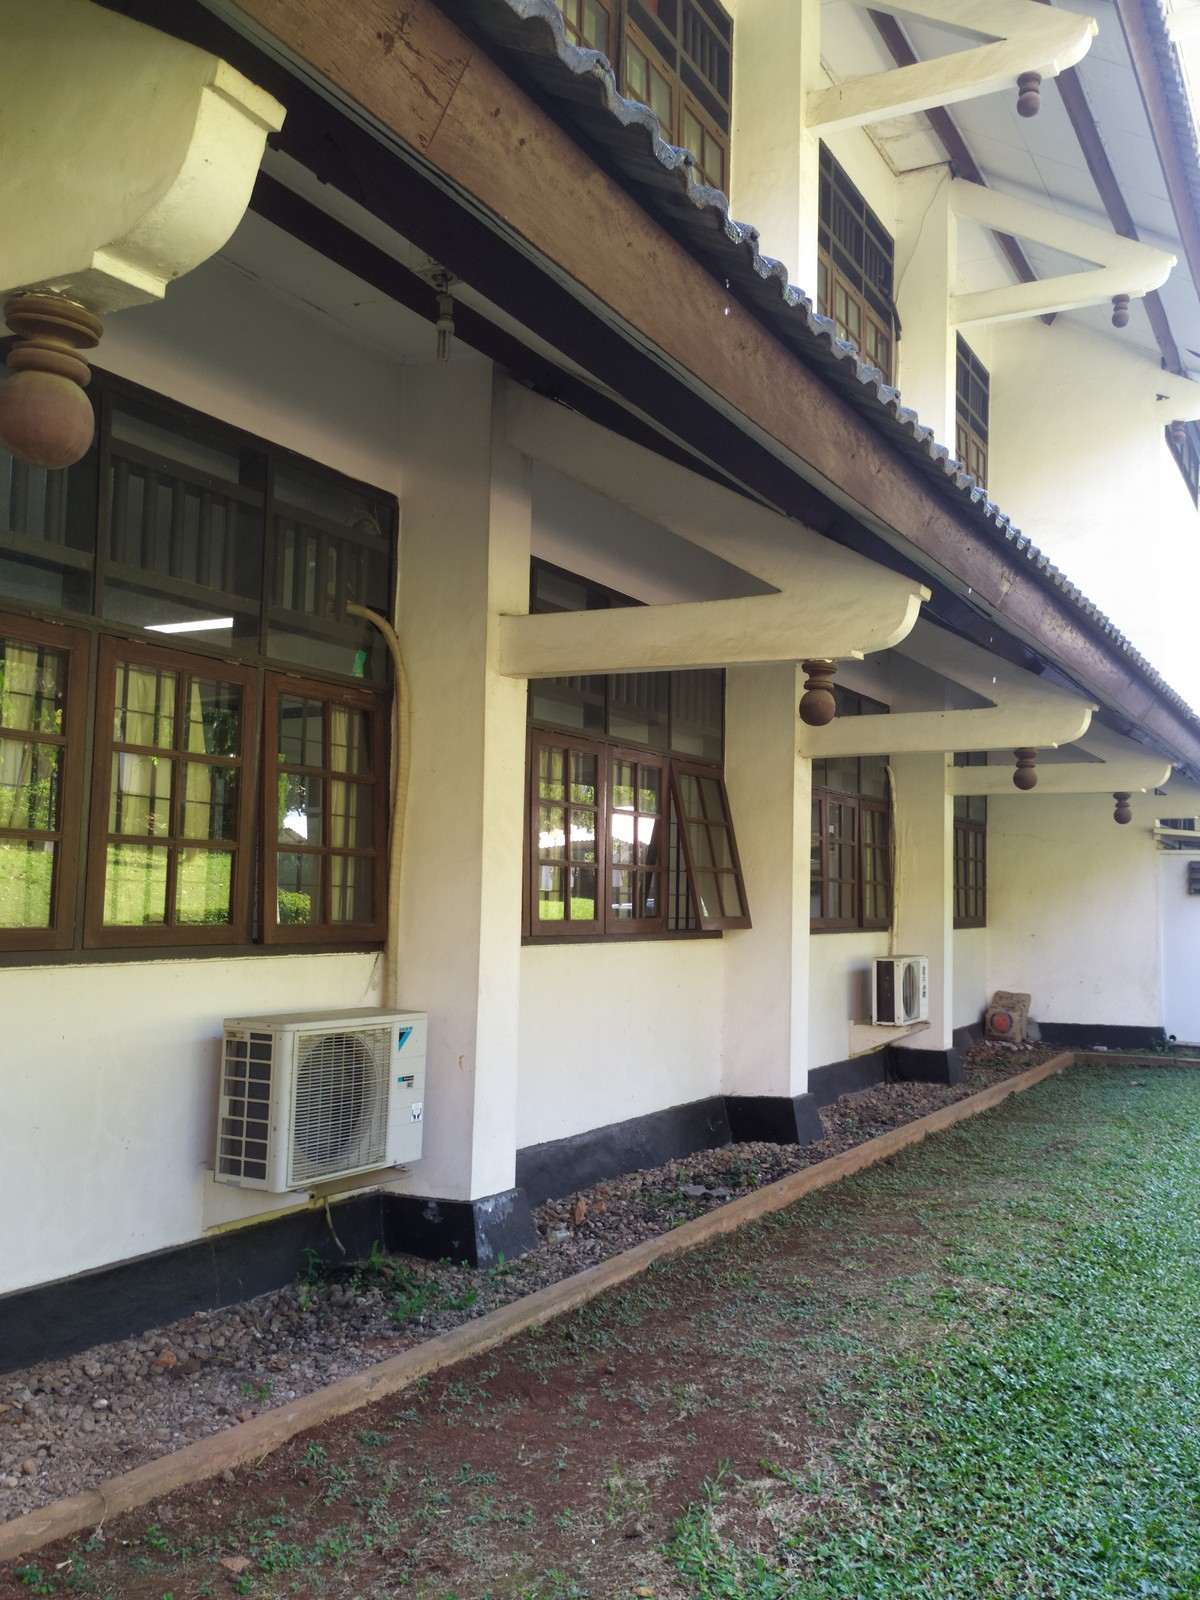concrete beam: (476, 600, 829, 690), (795, 55, 1018, 141), (794, 713, 1047, 769), (948, 273, 1113, 336)
concrete column: (376, 404, 542, 1243), (711, 674, 823, 1143), (722, 21, 836, 301), (886, 758, 966, 1081), (887, 191, 967, 451)
